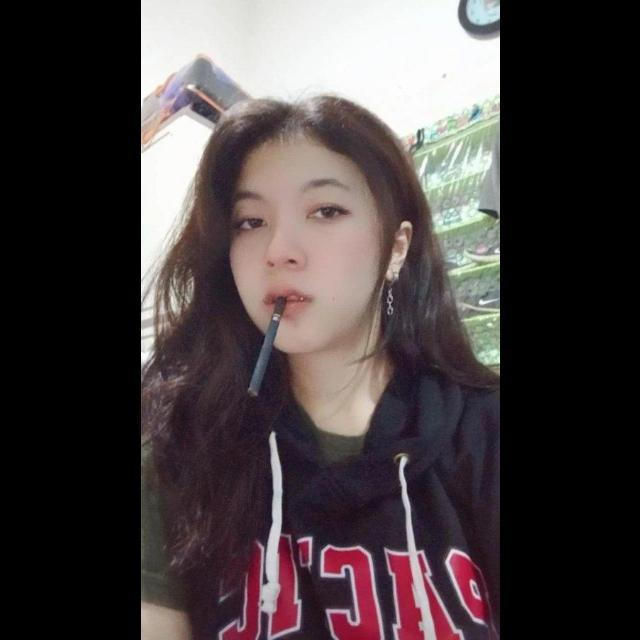rokok: (243, 296, 295, 398)
